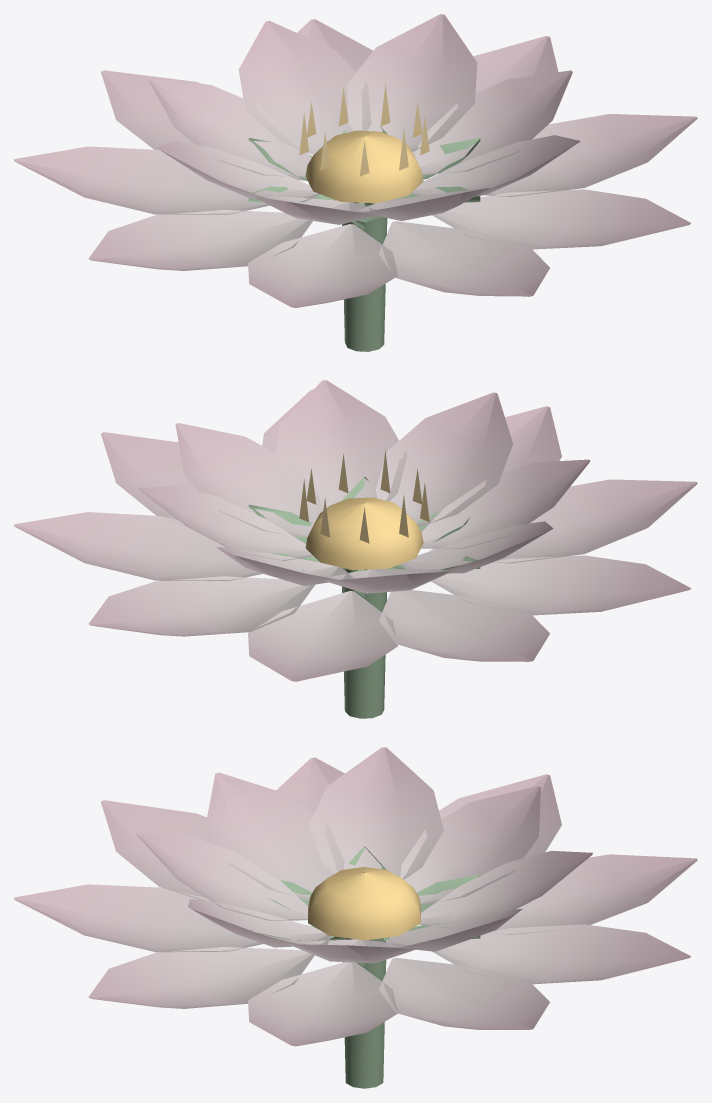
File: lotus_bloom_p012b_eco.glb
3 renders of one model, top to bottom at view 1: azimuth 30°, elevation 25°; view 2: azimuth 150°, elevation 25°; view 3: azimuth 270°, elevation 25°, orthographic.
Parts seen in each view (by area): view 1: lotus_bloom_p012b_root; view 2: lotus_bloom_p012b_root; view 3: lotus_bloom_p012b_root.
Boxes of the visible parts, x1,y1,x2,y2 form: lotus_bloom_p012b_root: (14, 14, 697, 351); lotus_bloom_p012b_root: (14, 380, 697, 718); lotus_bloom_p012b_root: (14, 747, 697, 1088).
Bounding box in the file's own units: 0.7333 × 0.279 × 0.7257.
